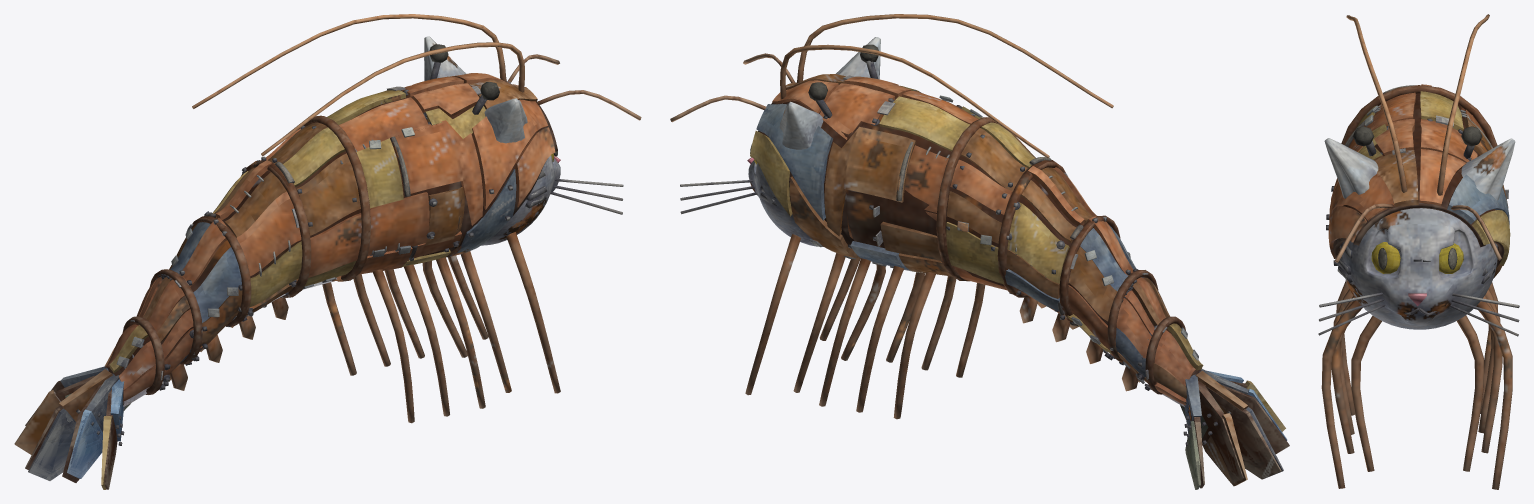
3 renders of one model, left to right at view 1: azimuth 30°, elevation 25°; view 2: azimuth 150°, elevation 25°; view 3: azimuth 270°, elevation 25°, orthographic. The views are drawn at different scales.
Visible parts, largest first — view 1: PanelsCOPPER, Legs, PanelsRUST, PanelsBRASS, Ribs, PanelsBLUEGREY, Antennae, Head, Body, PanelsGUNMETAL, PanelsPAINTED, TailFan (+4 smaller); view 2: PanelsRUST, PanelsCOPPER, Legs, PanelsBRASS, PanelsBLUEGREY, Body, Ribs, TailFan, Antennae, Head, Rivets, Clips (+2 smaller); view 3: Head, Legs, PanelsCOPPER, Antennae, PanelsBRASS, Body, PanelsRUST, Whiskers, Ribs, PanelsBLUEGREY, Eyes, Beads (+2 smaller).
Part boxes in pixels (x1=…): PanelsCOPPER: x1=105, y1=73, x2=555, y2=401; Legs: x1=169, y1=232, x2=560, y2=423; PanelsRUST: x1=14, y1=80, x2=537, y2=454; PanelsBRASS: x1=101, y1=90, x2=485, y2=489; Ribs: x1=122, y1=115, x2=370, y2=394; PanelsBLUEGREY: x1=60, y1=74, x2=516, y2=387; Antennae: x1=192, y1=14, x2=641, y2=156; Head: x1=424, y1=36, x2=560, y2=245; Body: x1=107, y1=95, x2=557, y2=376; PanelsGUNMETAL: x1=28, y1=373, x2=124, y2=480; PanelsPAINTED: x1=67, y1=379, x2=124, y2=478; TailFan: x1=25, y1=375, x2=117, y2=489; PanelsRUST: x1=786, y1=74, x2=1247, y2=486; PanelsCOPPER: x1=772, y1=76, x2=1201, y2=405; Legs: x1=745, y1=234, x2=1140, y2=419; PanelsBRASS: x1=750, y1=85, x2=1285, y2=431; PanelsBLUEGREY: x1=756, y1=103, x2=1201, y2=432; Body: x1=758, y1=96, x2=1201, y2=376; Ribs: x1=936, y1=117, x2=1185, y2=394; TailFan: x1=1184, y1=380, x2=1289, y2=488; Antennae: x1=670, y1=14, x2=1113, y2=158; Head: x1=748, y1=37, x2=880, y2=246; Rivets: x1=823, y1=90, x2=1230, y2=446; Clips: x1=809, y1=95, x2=1198, y2=383; Head: x1=1324, y1=138, x2=1515, y2=329; Legs: x1=1321, y1=280, x2=1512, y2=489; PanelsCOPPER: x1=1328, y1=84, x2=1483, y2=258; Antennae: x1=1334, y1=14, x2=1501, y2=262; PanelsBRASS: x1=1355, y1=91, x2=1510, y2=265; Body: x1=1333, y1=93, x2=1504, y2=268; PanelsRUST: x1=1375, y1=93, x2=1508, y2=278; Whiskers: x1=1318, y1=292, x2=1519, y2=336; Ribs: x1=1341, y1=85, x2=1497, y2=147; PanelsBLUEGREY: x1=1337, y1=174, x2=1509, y2=266; Eyes: x1=1371, y1=242, x2=1463, y2=273; Beads: x1=1353, y1=126, x2=1482, y2=146.
Size of the model in its own units: 5.23 by 3.15 by 1.51.
29 materials, 29 textured.
